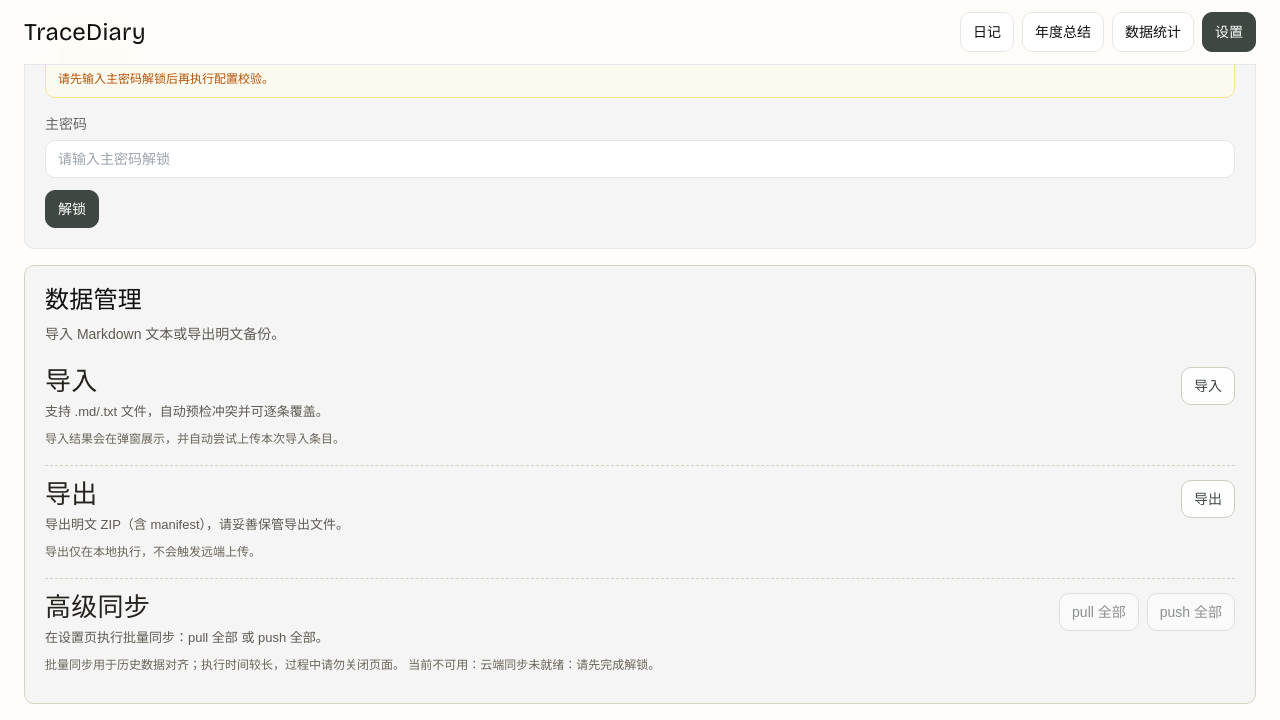
设置页导出入口 › 未解锁时点击导出应阻止并提示
The image size is (1280, 720).
(page scrolled)
Step 1. Click the button with test id "settings-export-button" → (1208, 499), box [1181, 480, 1235, 518]
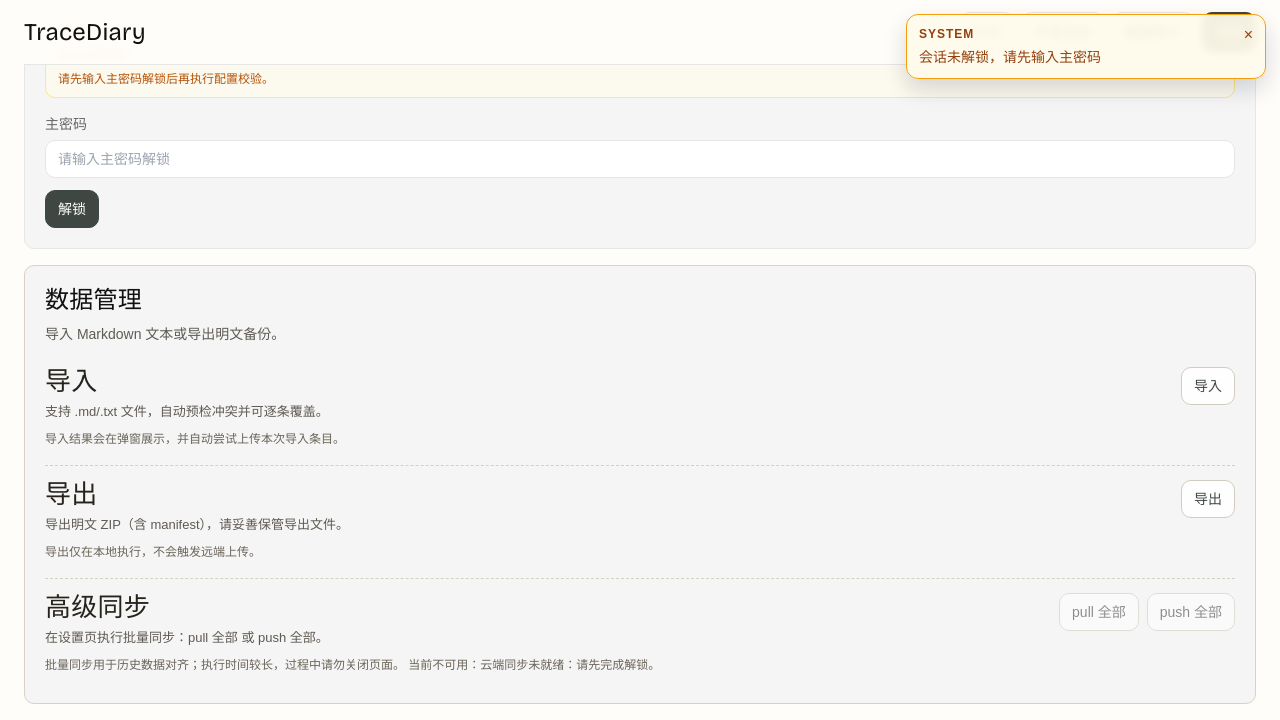
Now the message with test id "toast-system" shows "会话未解锁，请先输入主密码", box [919, 49, 1101, 65]
